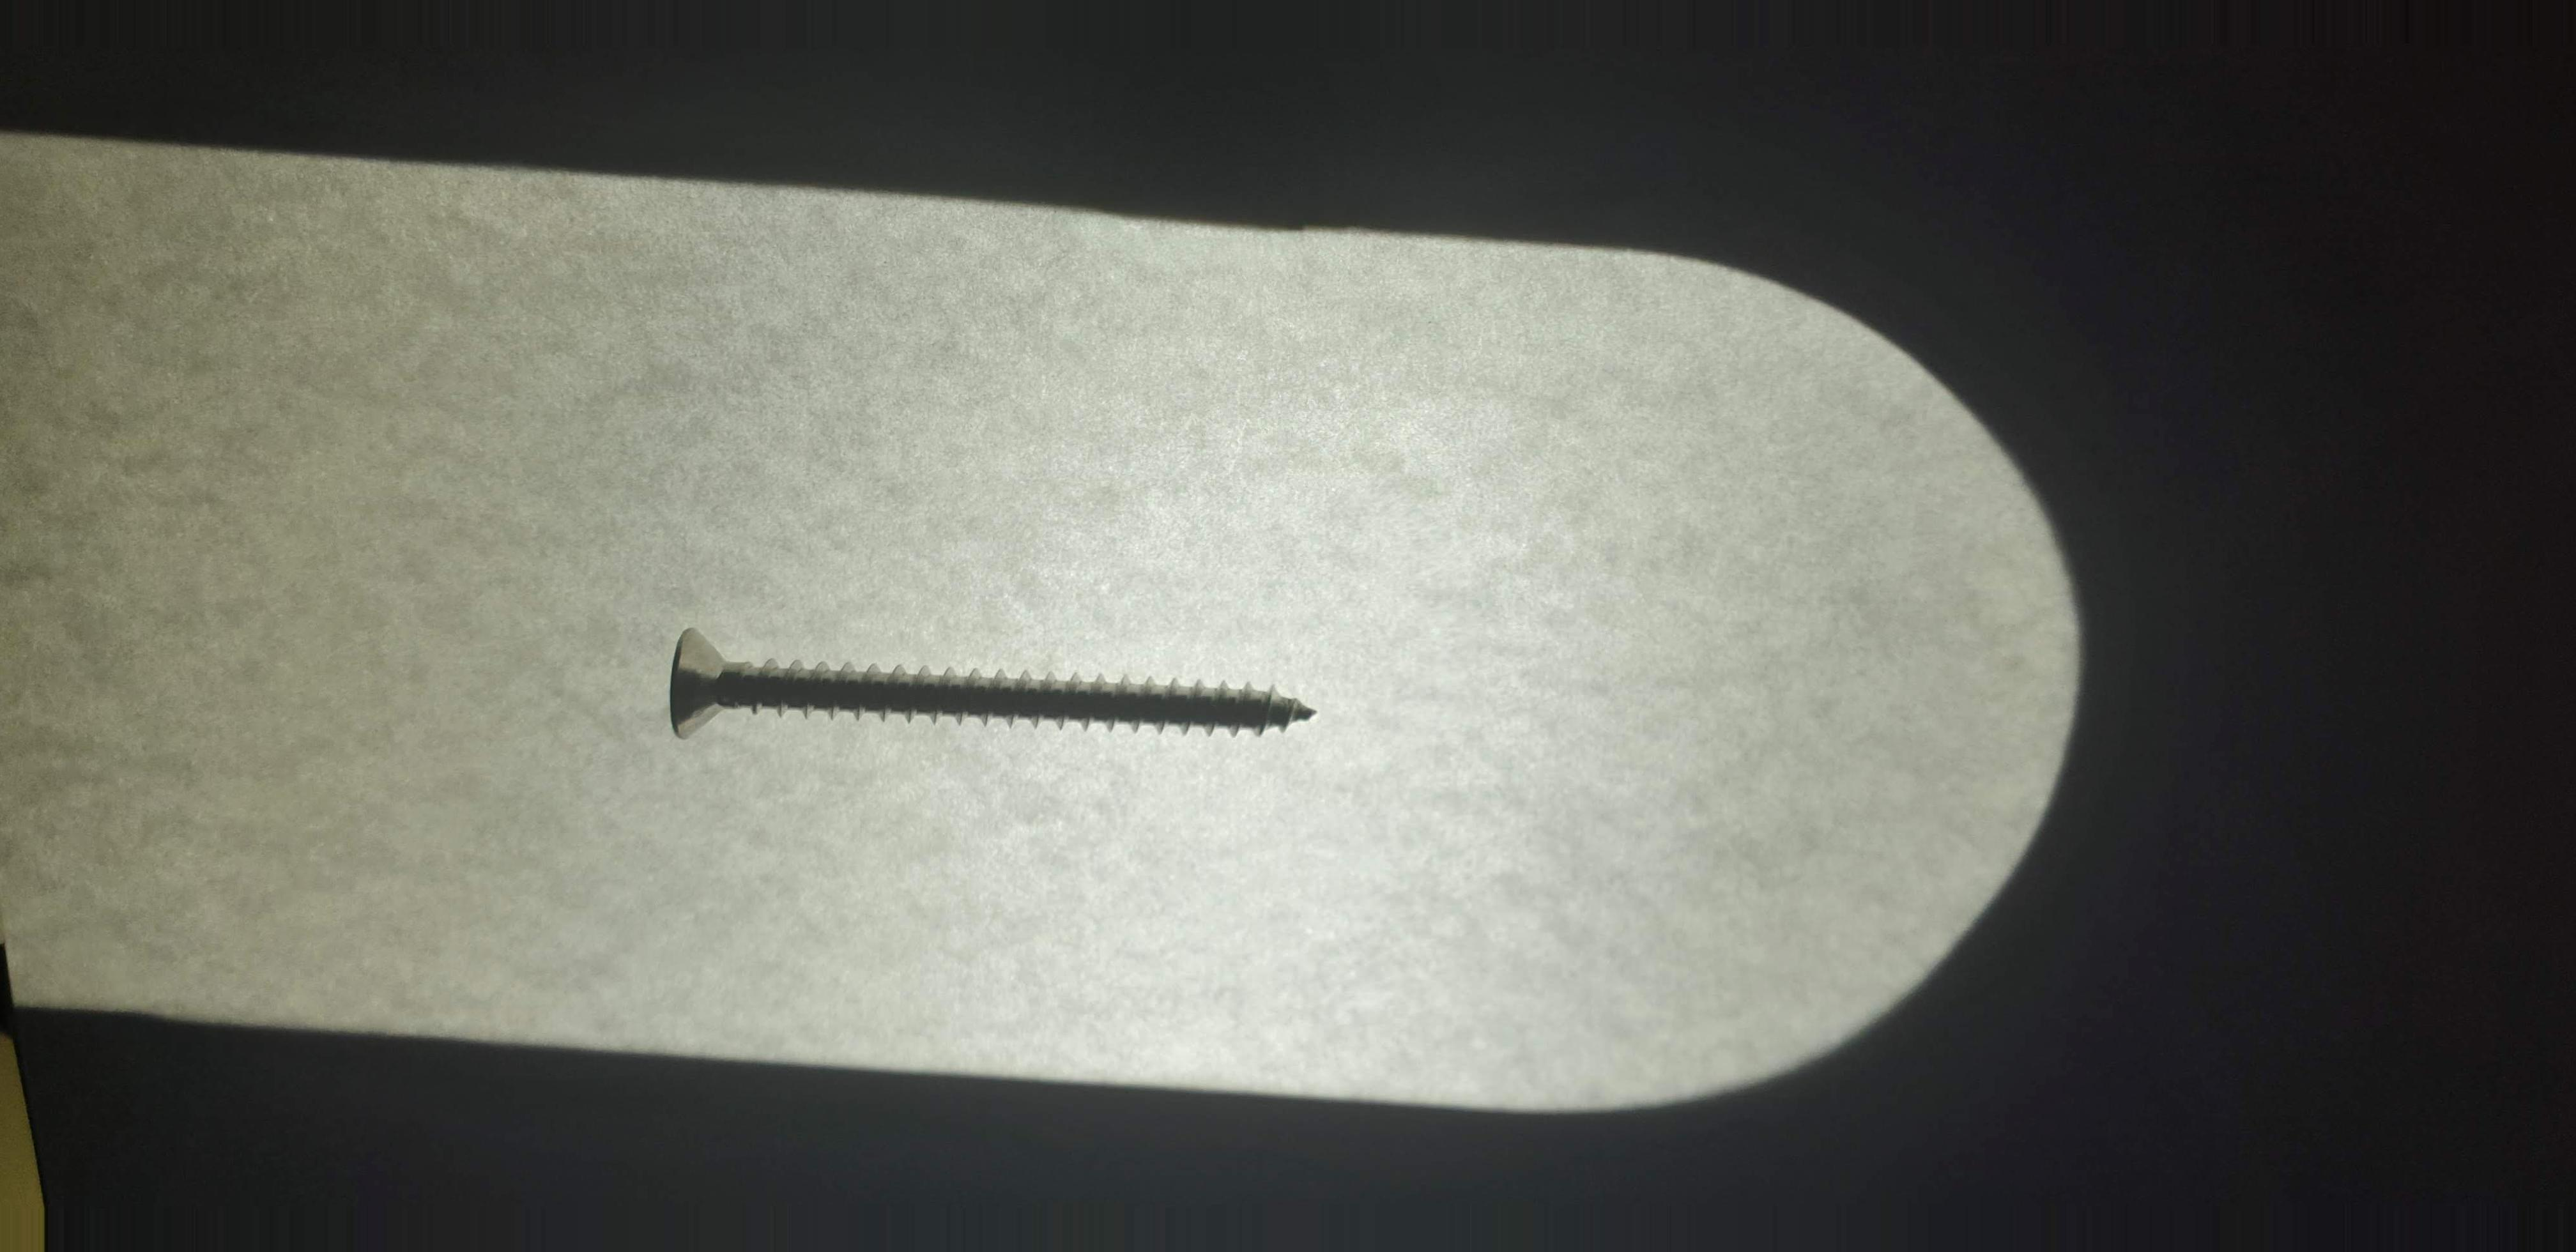S001: (647, 605, 1344, 771)
